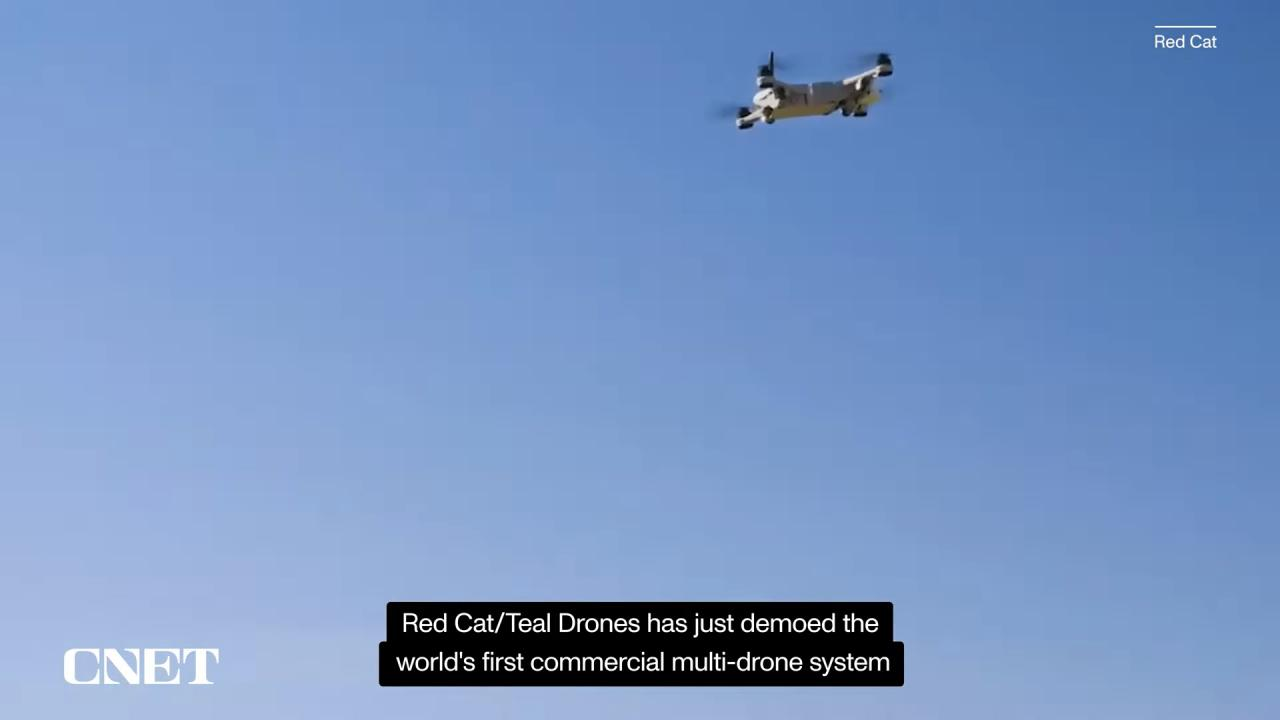Drone: (686, 38, 919, 150)
